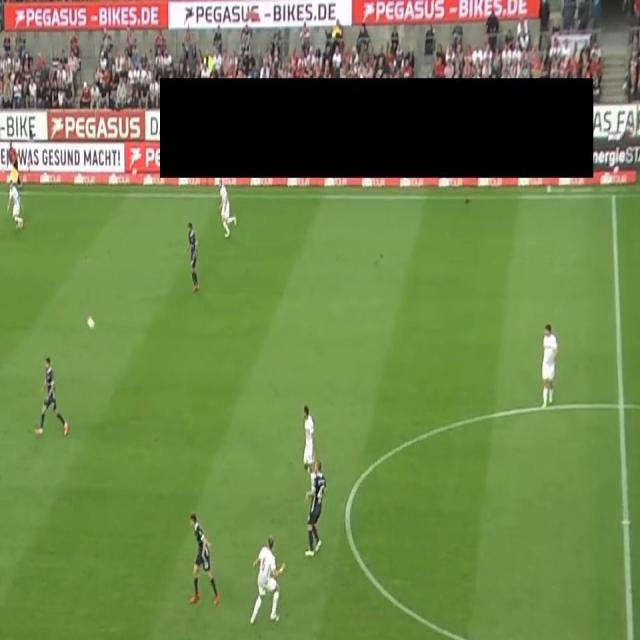ball: (86, 313, 96, 331)
